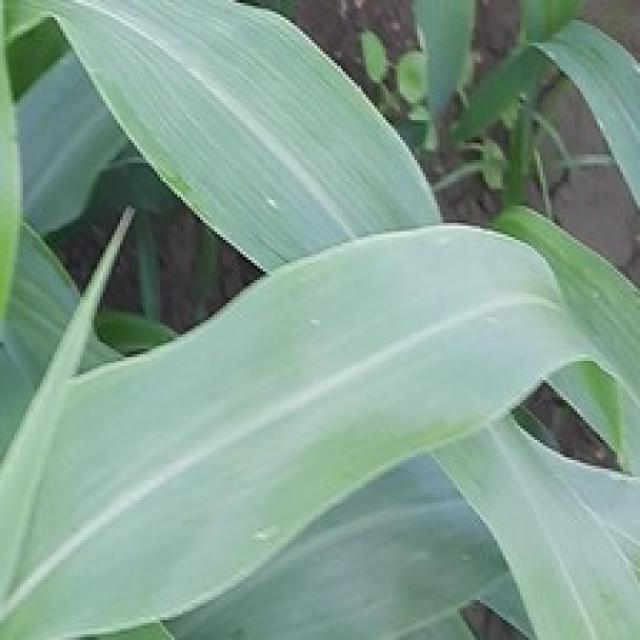Corn: (0, 0, 637, 637), (0, 0, 443, 274), (526, 14, 637, 306), (0, 0, 23, 349)
